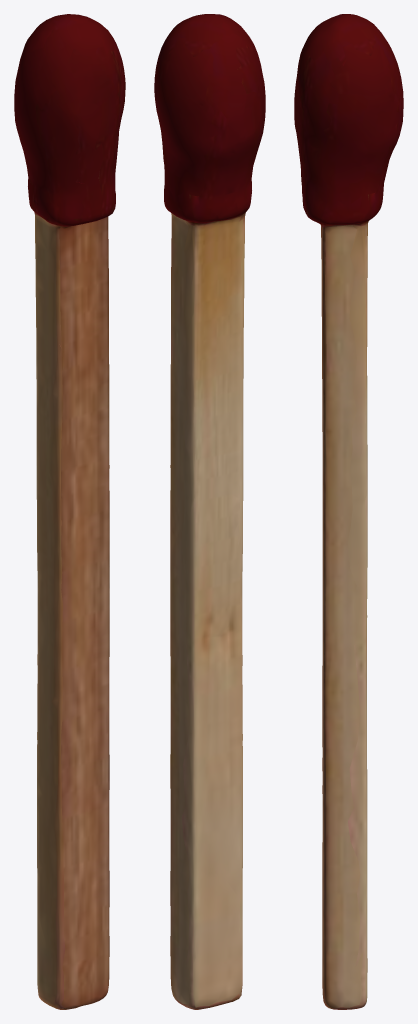
File: match_box.glb
3 renders of one model, left to right at view 1: azimuth 30°, elevation 25°; view 2: azimuth 210°, elevation 25°; view 3: azimuth 270°, elevation 25°, orthographic.
Parts seen in each view (by area): view 1: match; view 2: match; view 3: match.
Boxes of the visible parts, x1=… form: match: x1=14, y1=14, x2=125, y2=1009; match: x1=154, y1=14, x2=265, y2=1009; match: x1=294, y1=14, x2=403, y2=1009.
Bounding box in the file's own units: 0.0132 × 0.1305 × 0.0132.
1 material, 1 textured.
